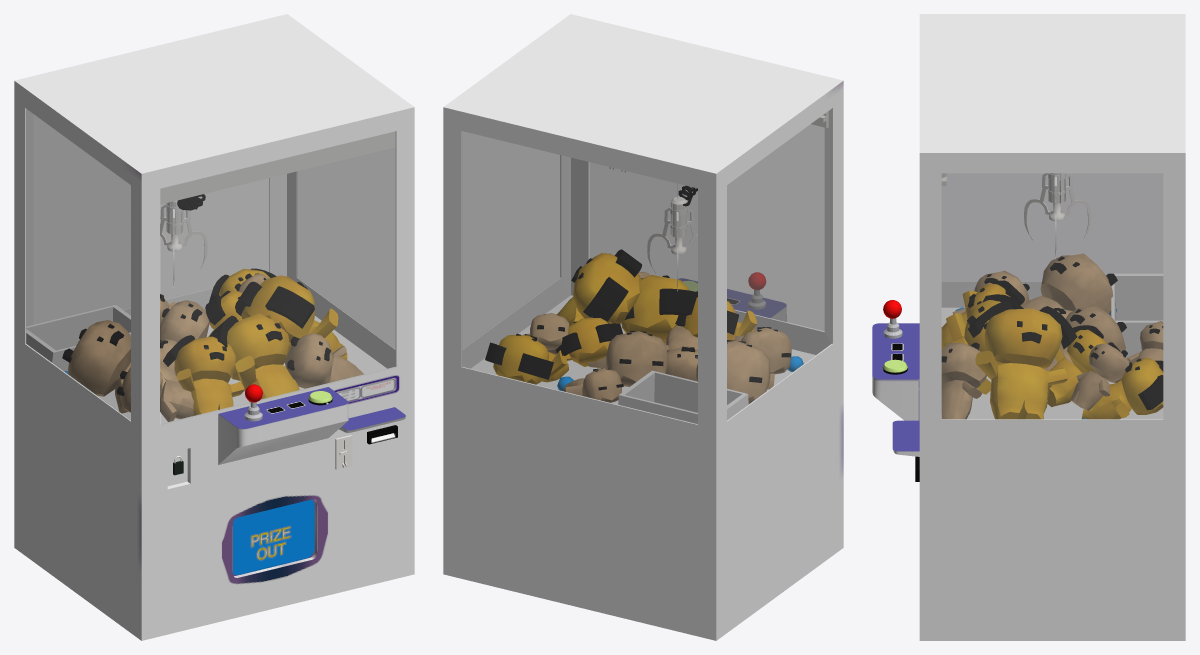
Rendered from LC_3054_Doll_Drawing_Machine_LOD3.FBX.
3 renders of one model, left to right at view 1: azimuth 30°, elevation 25°; view 2: azimuth 150°, elevation 25°; view 3: azimuth 270°, elevation 25°, orthographic. The views are drawn at different scales.
Visible parts, largest first — view 1: LC_3054_Doll_Drawing_Machine_LOD3; view 2: LC_3054_Doll_Drawing_Machine_LOD3; view 3: LC_3054_Doll_Drawing_Machine_LOD3.
Boxes of the visible parts, box(x1,y1,x2,y2) form: LC_3054_Doll_Drawing_Machine_LOD3: box(14, 14, 414, 640); LC_3054_Doll_Drawing_Machine_LOD3: box(443, 14, 843, 640); LC_3054_Doll_Drawing_Machine_LOD3: box(872, 14, 1185, 640).
Size of the model in its own units: 104 by 170 by 98.91.
2 materials, 1 textured.
